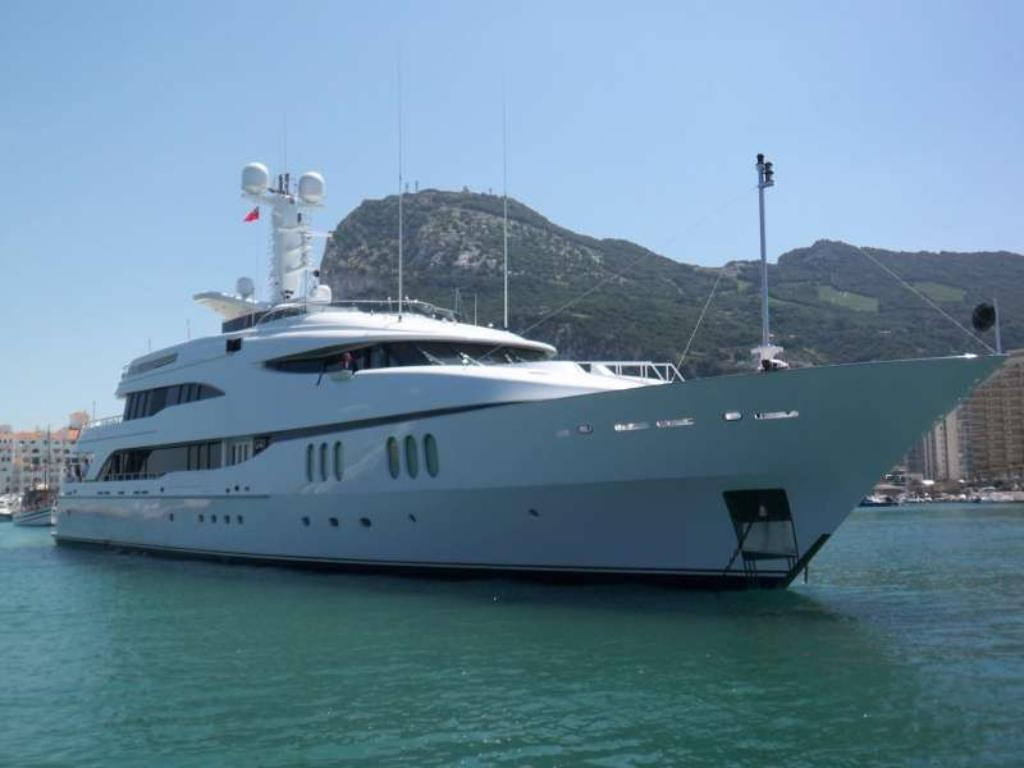PassengerShip: (52, 126, 1014, 598)
